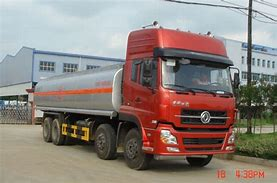oil truck: (32, 25, 249, 171)
